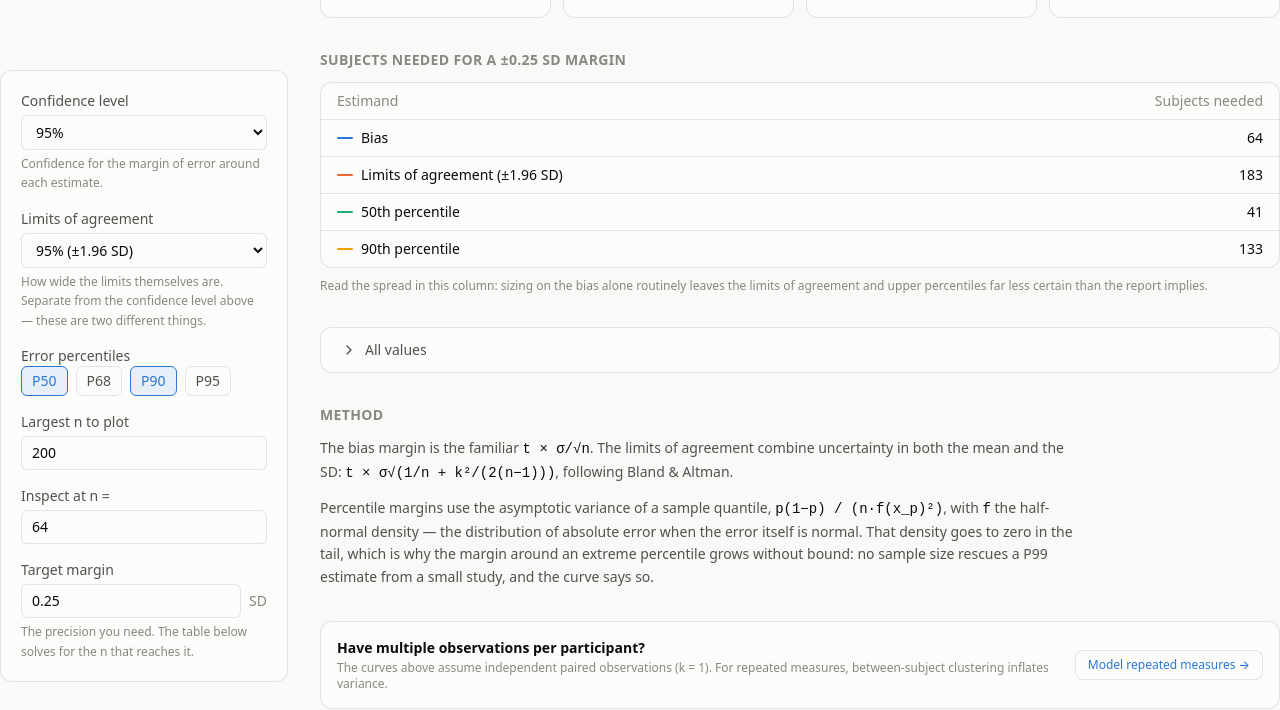
Test: PrecisionPage › renders a table view of every plotted value
The image size is (1280, 710).
(page scrolled)
Step 1. Click the heading "All values" → (384, 350), box 341,340 -> 427,359
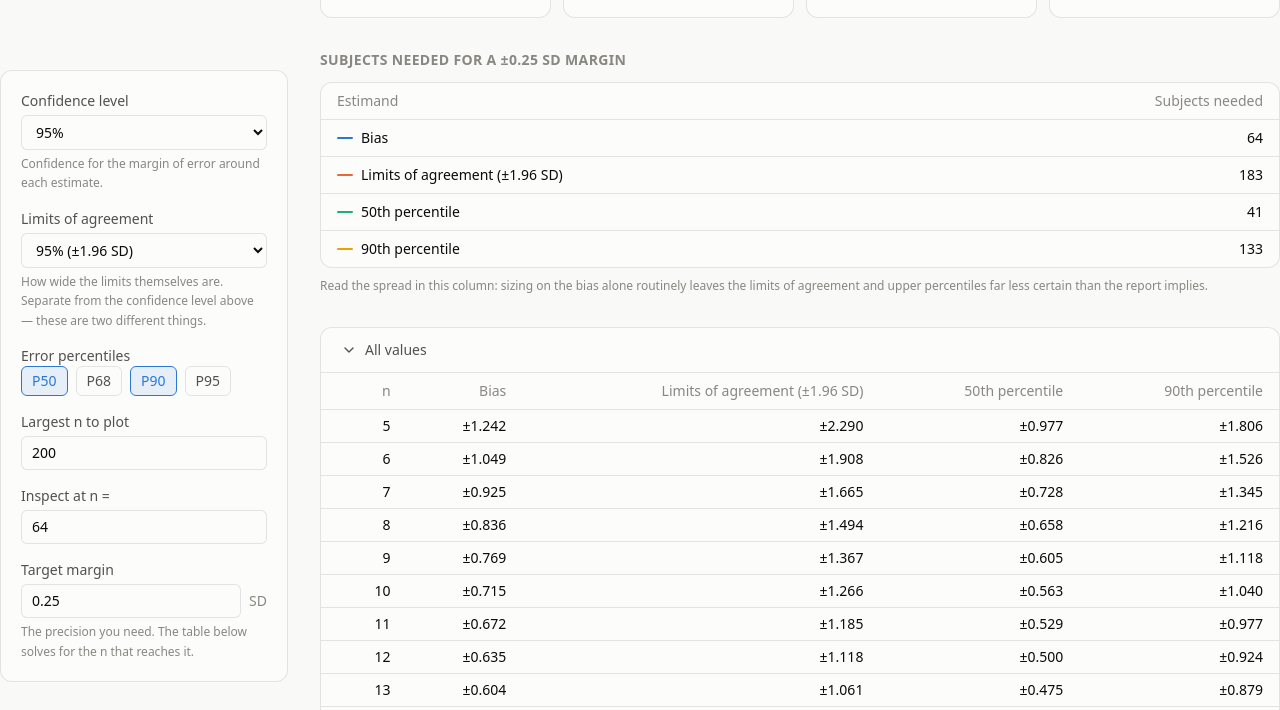
Result: the column heading "n" is shown at 321,373 -> 407,410
Result: the column heading "90th percentile" is shown at 1079,373 -> 1279,410
